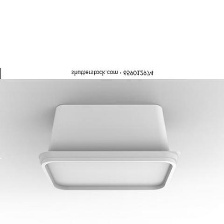plastic_box: (30, 96, 184, 199)
